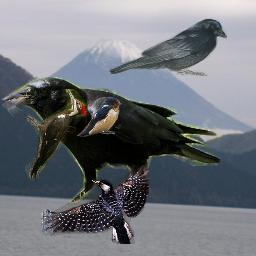Crow: (1, 77, 220, 203), (108, 18, 227, 76)
Swallow: (77, 97, 122, 137)
Woodpecker: (41, 165, 149, 244), (25, 89, 87, 181)
